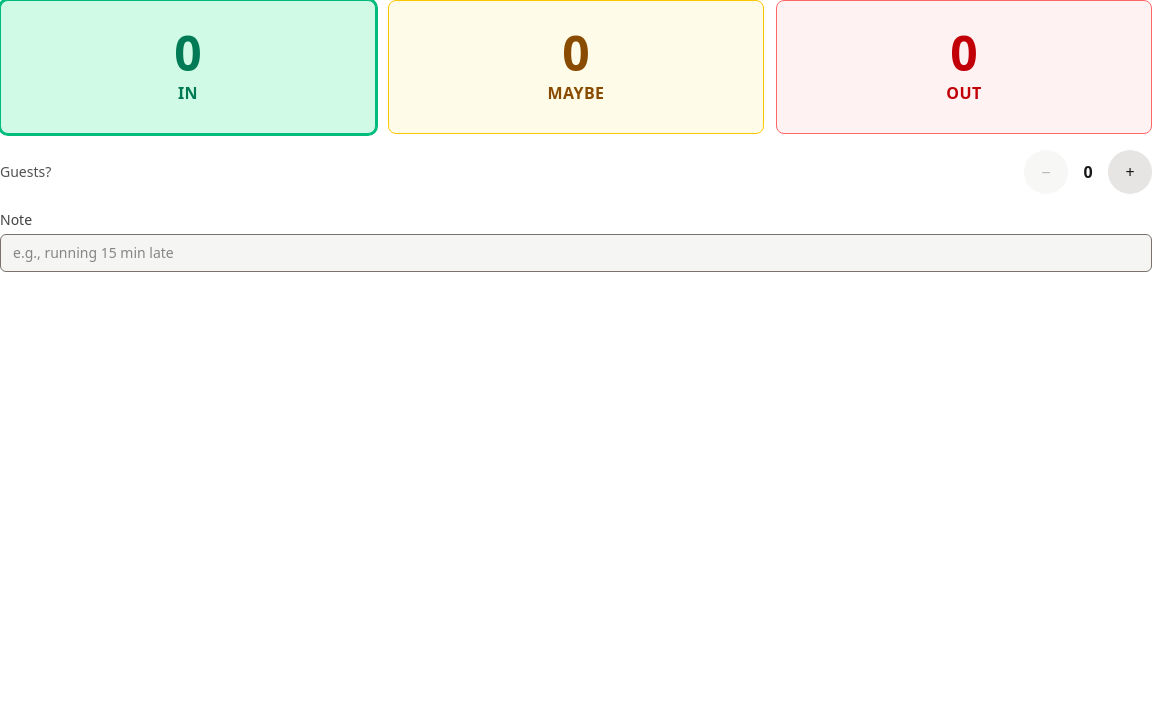
Test: RsvpControls › applies the change and submits when the dialog is confirmed
The width and height of the screenshot is (1152, 720).
Click the button named "out count": (964, 67) left=776, top=0, right=1151, bottom=134
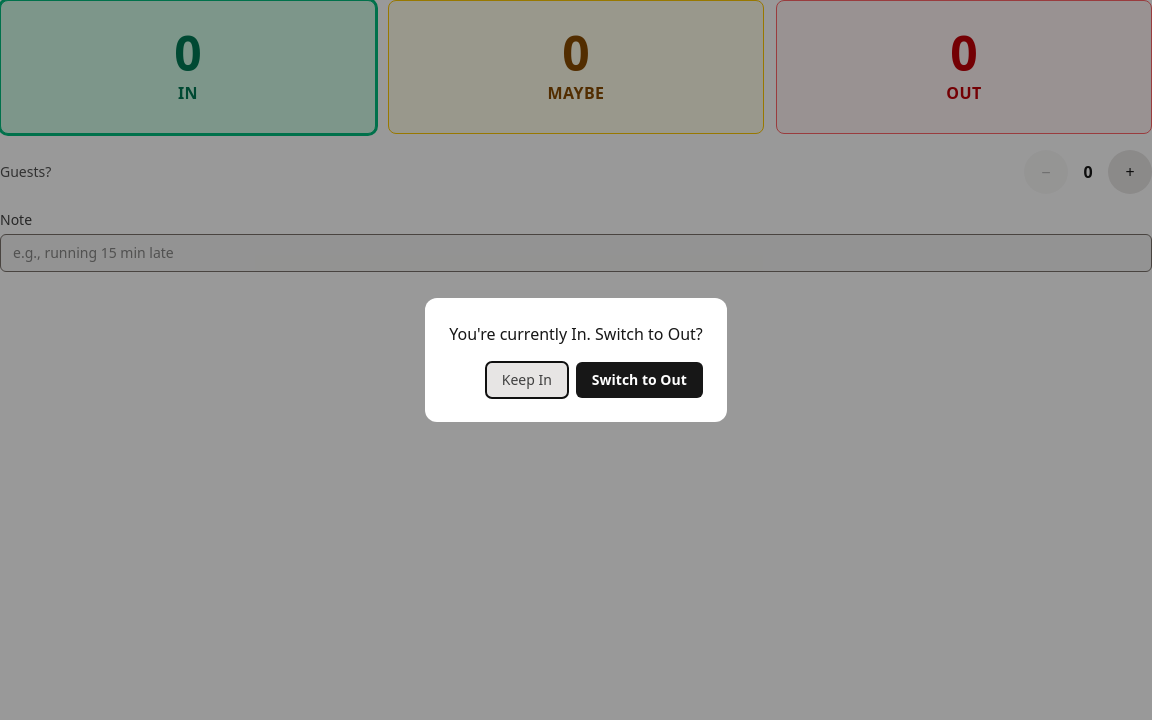
Click the button "Switch to Out": (639, 380) left=576, top=362, right=703, bottom=398
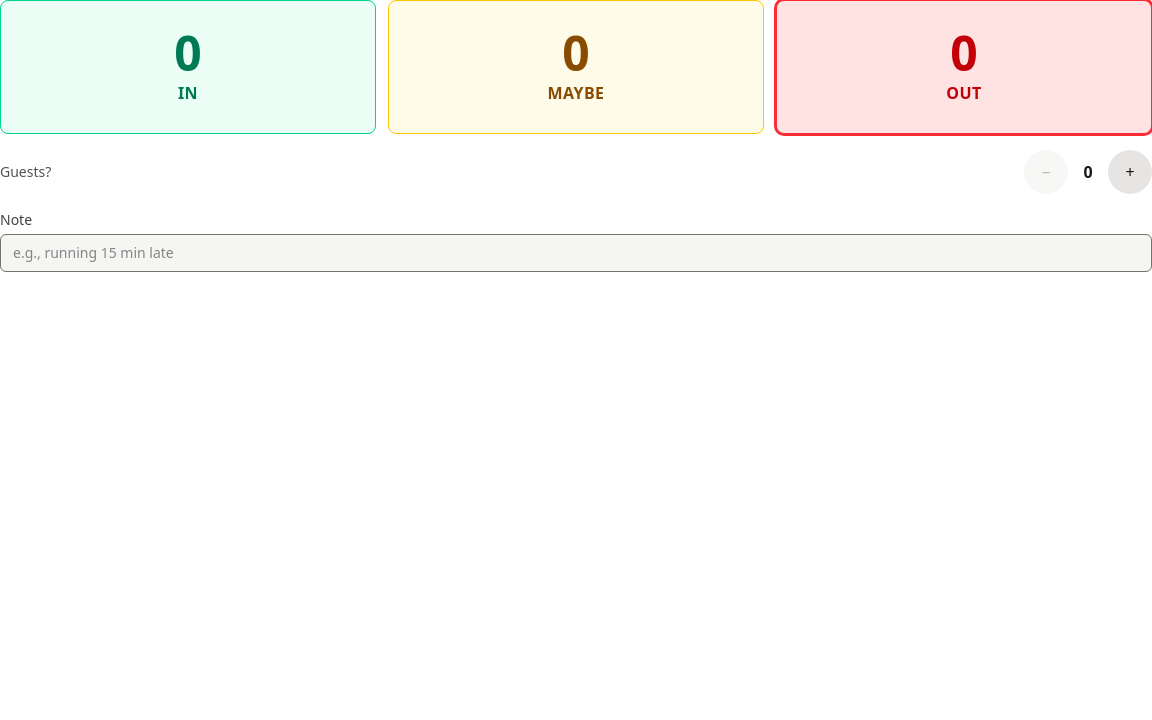
Result: the dialog is gone
